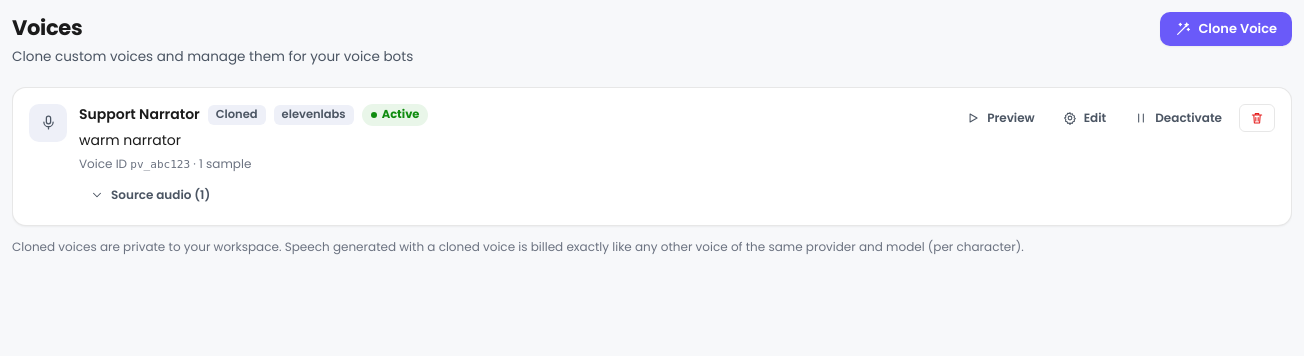
Test case: Tenant Voices page › Saved source audio › shows a retryable error when the stored audio cannot be loaded
This screenshot has width=1304, height=356.
Click the button "Source audio (1)" at (150, 195), box [79, 181, 221, 209]
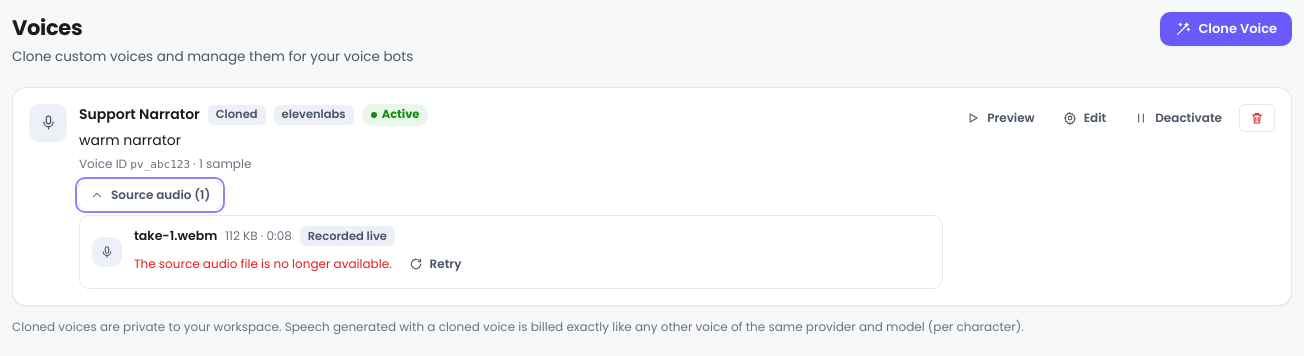
Check: the text "The source audio file is no longer available." is shown, box [134, 255, 392, 273]
Click the button "Retry" at (435, 264), box [398, 250, 472, 278]
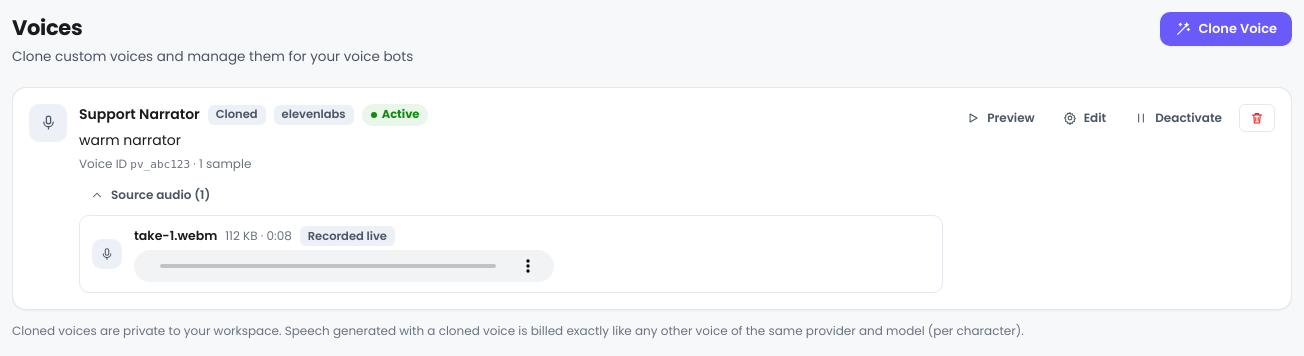
Check: the element named "Play source audio take-1.webm" is shown, box [134, 250, 554, 282]
